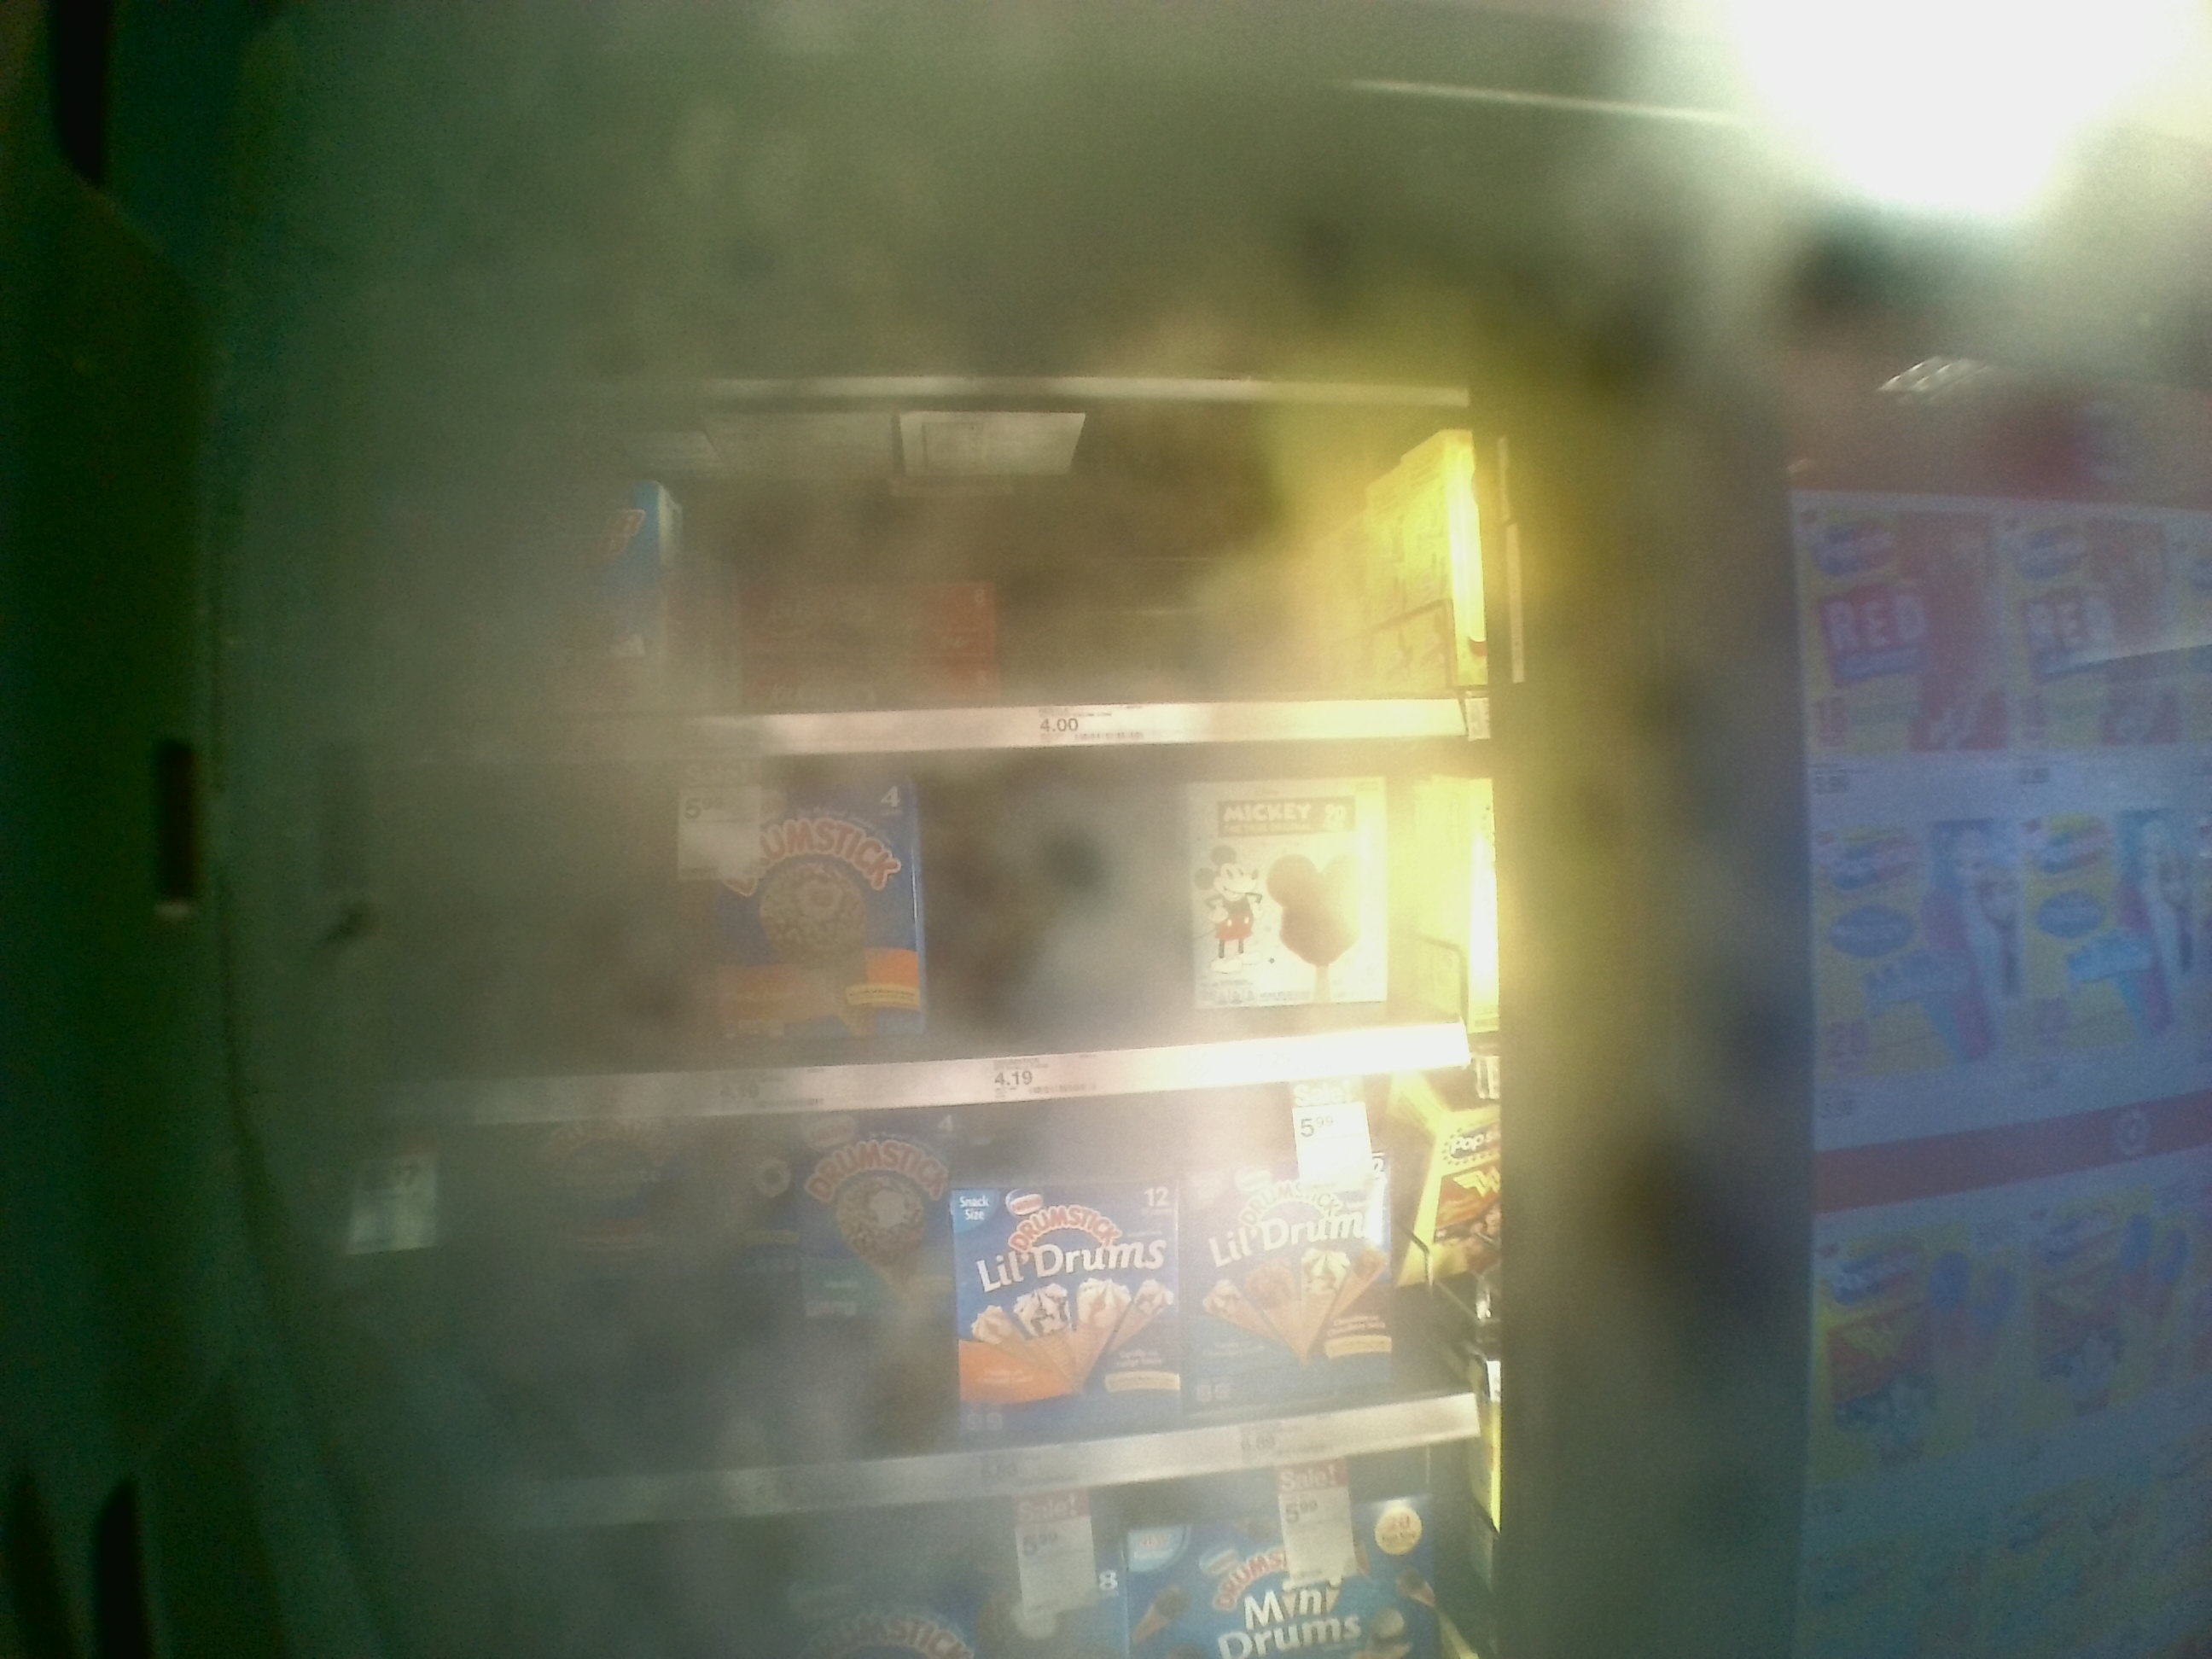shelf: (324, 1065, 1526, 1532), (320, 734, 1508, 1122), (319, 408, 1498, 772)
